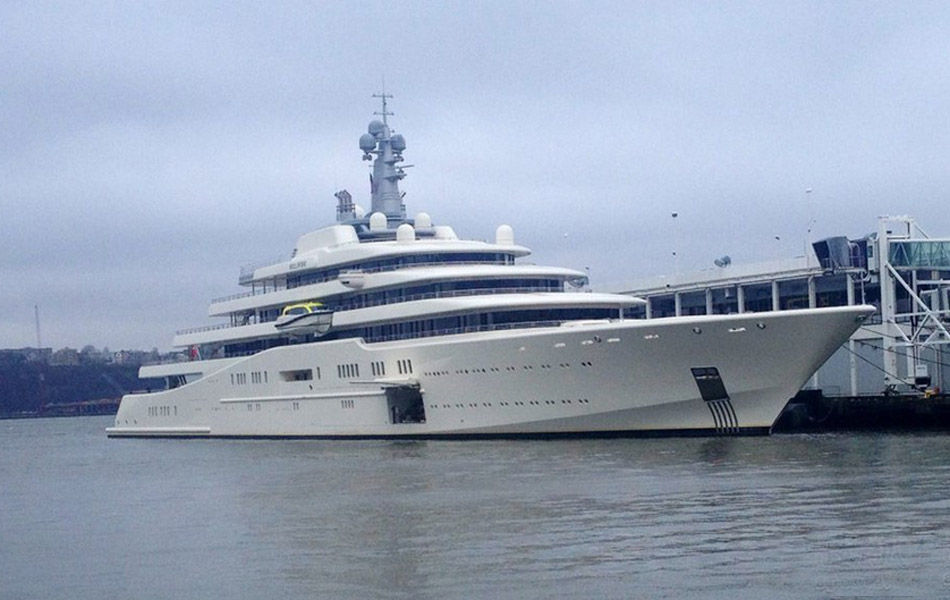yacht: (102, 89, 876, 441)
